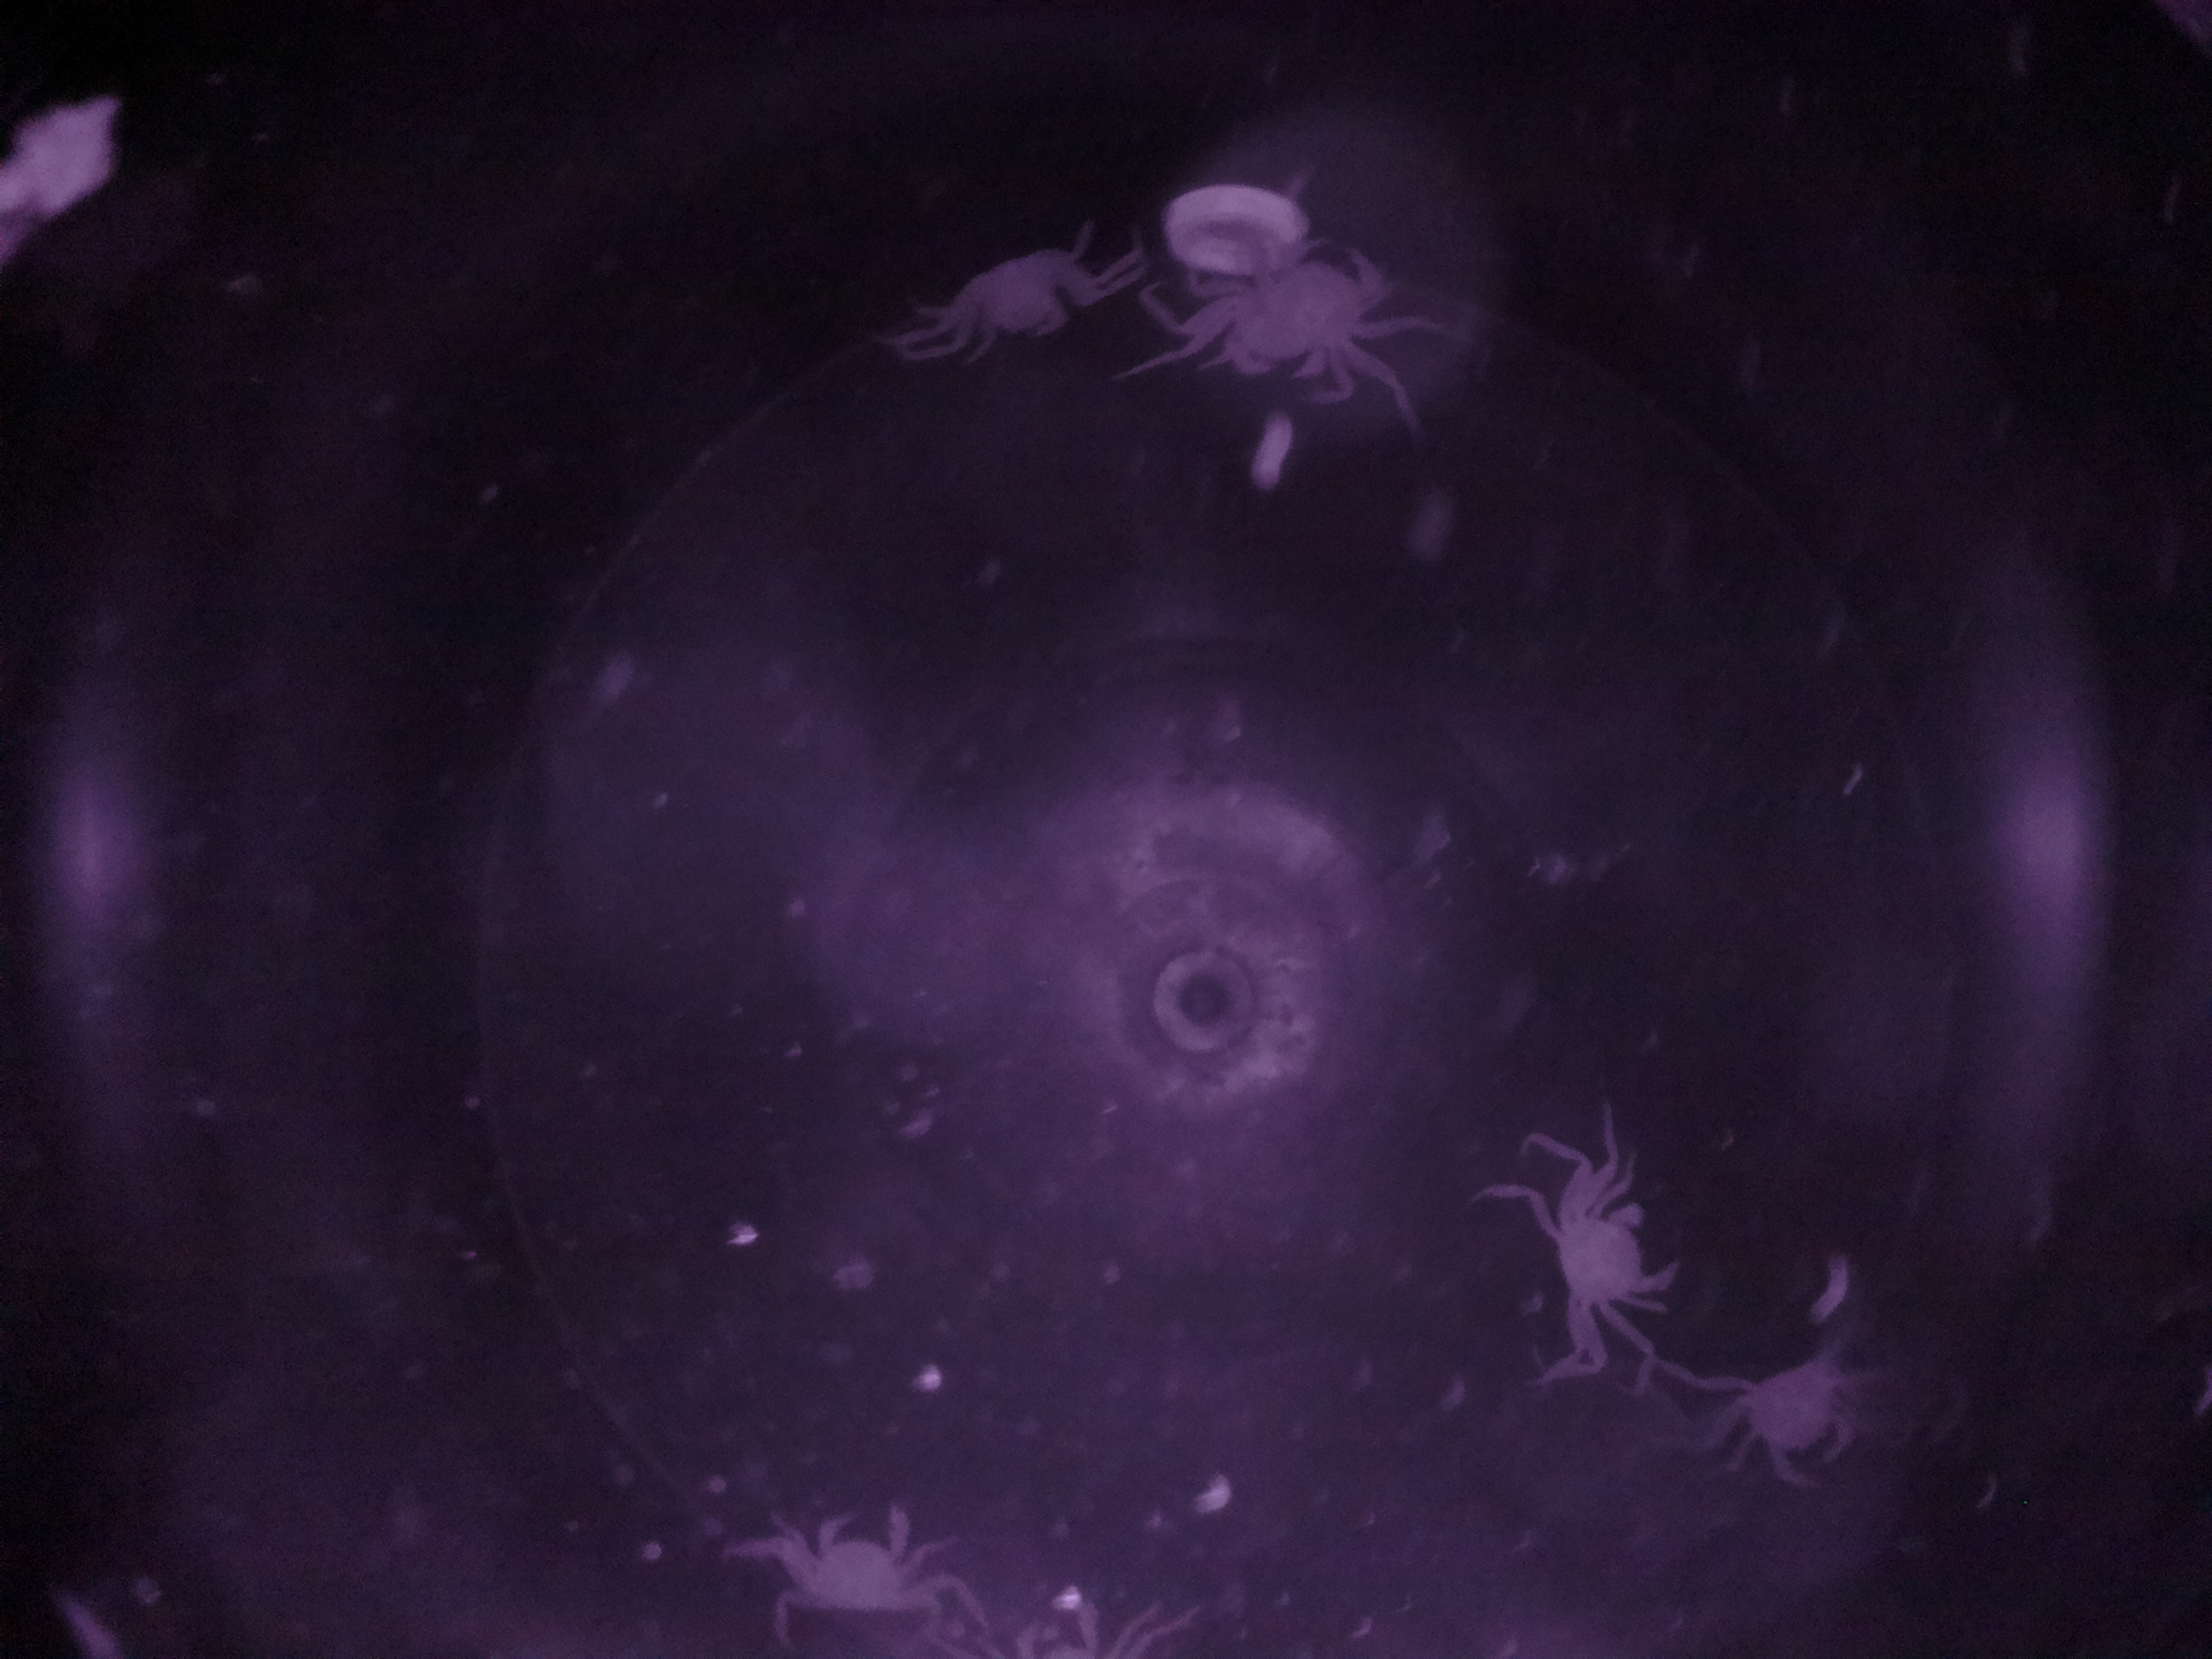Crab: (1696, 1326, 1872, 1495), (1529, 1169, 1695, 1344), (934, 218, 1099, 376), (759, 1485, 937, 1626)
